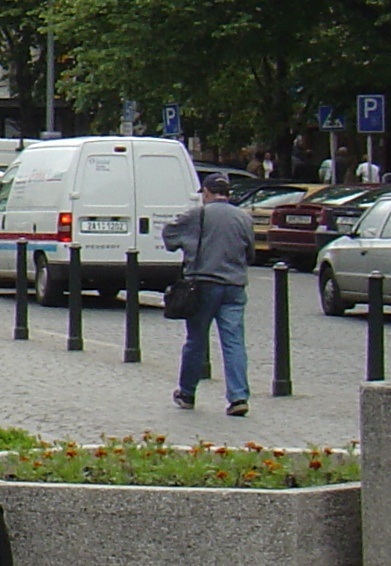person: (170, 167, 255, 417)
